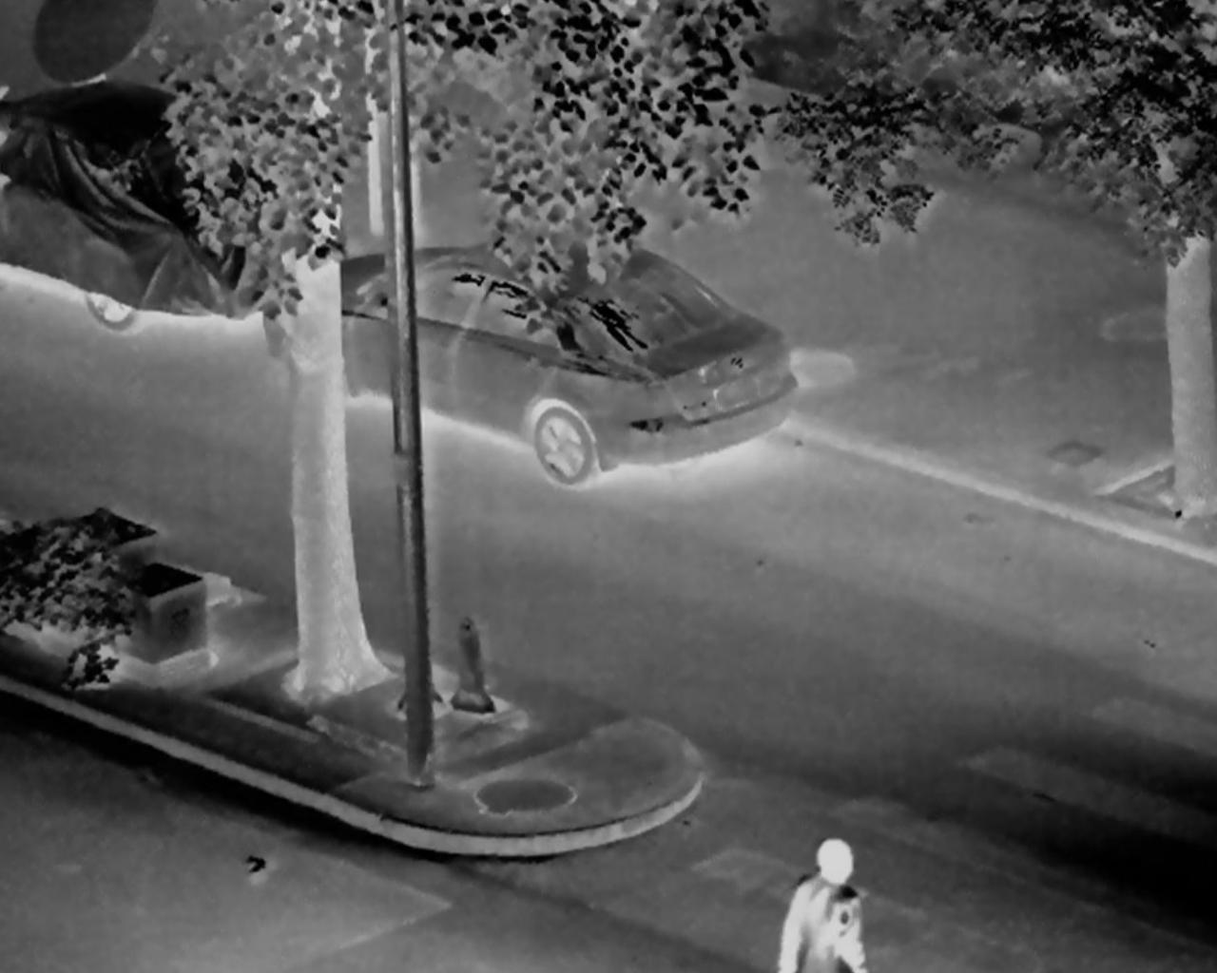person: (774, 836, 872, 973)
